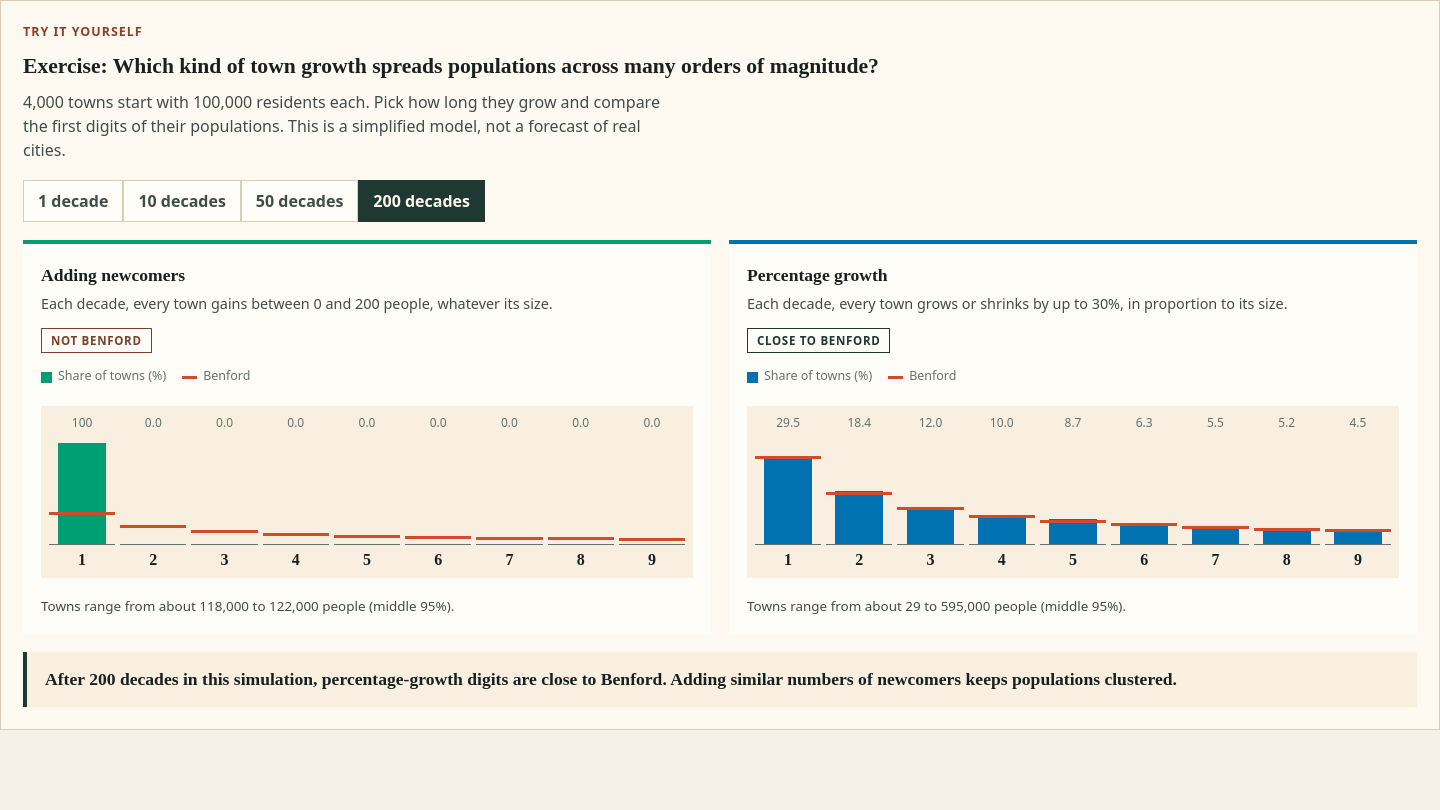
Test case: AddVsMultiplyLab › after 1 decade, neither kind of growth is Benford
Click the button "1 decade": (73,201) [23,180,123,222]
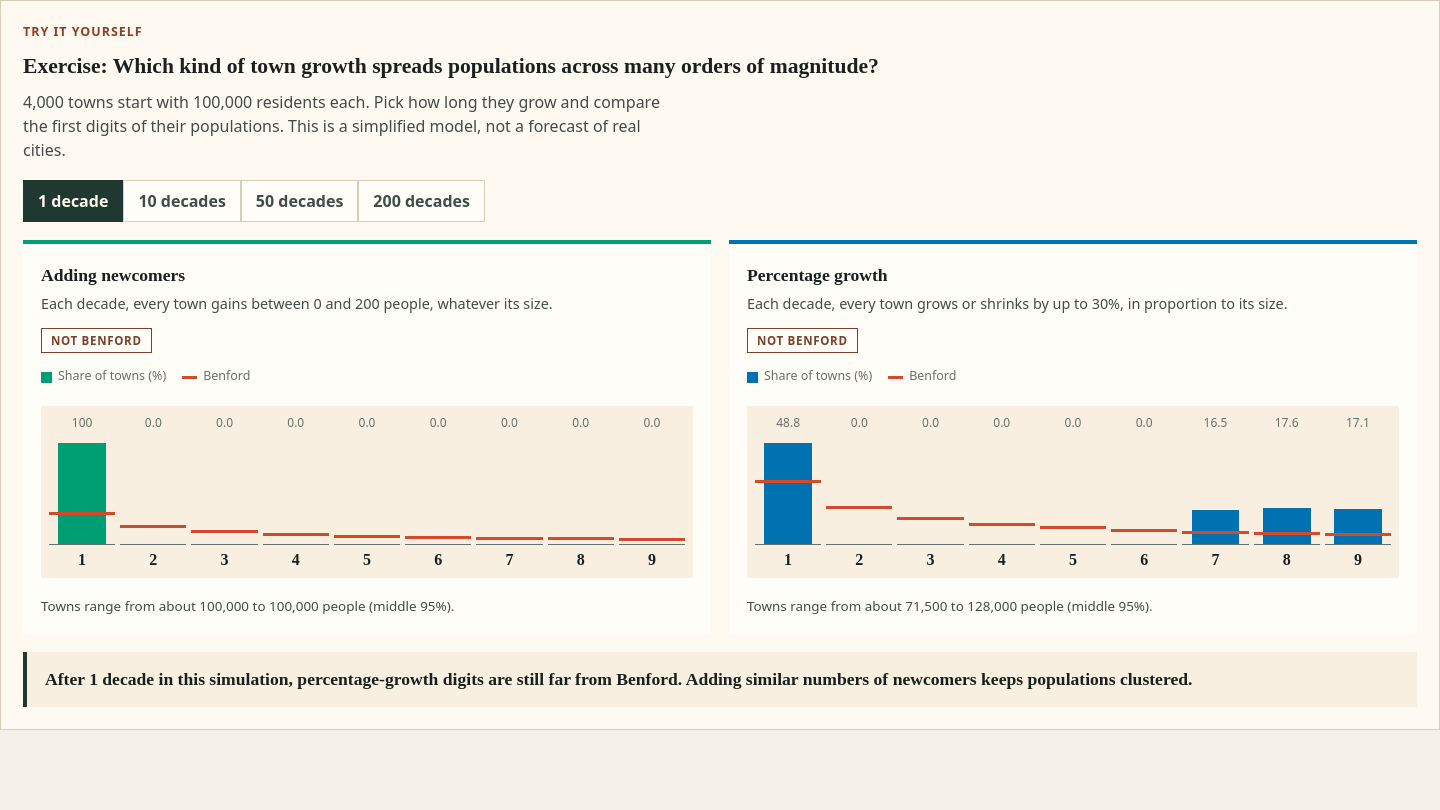
Check: the text "Not Benford" below "Adding newcomers" is shown, box [51,333,142,348]
Check: the text "Not Benford" below "Percentage growth" is shown, box [757,333,848,348]
